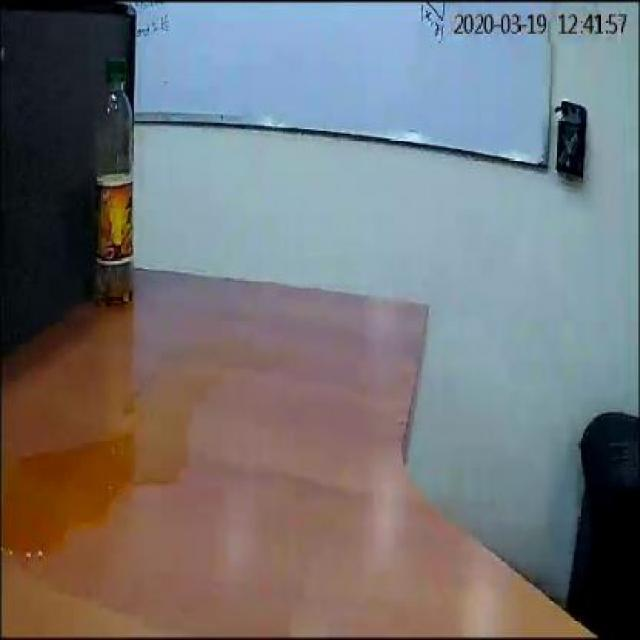spill: (2, 324, 226, 556)
